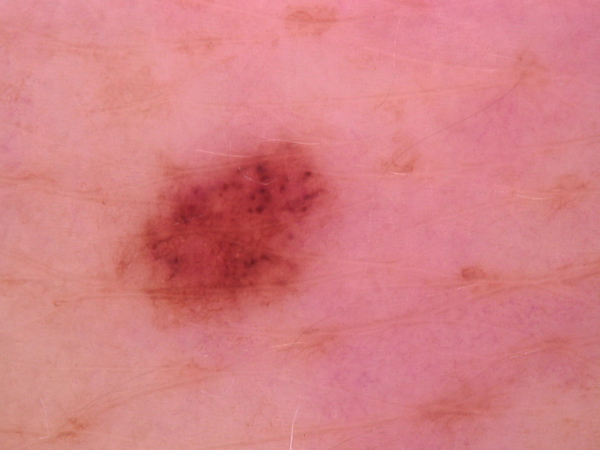Detected Lesion: (115, 130, 341, 316)
